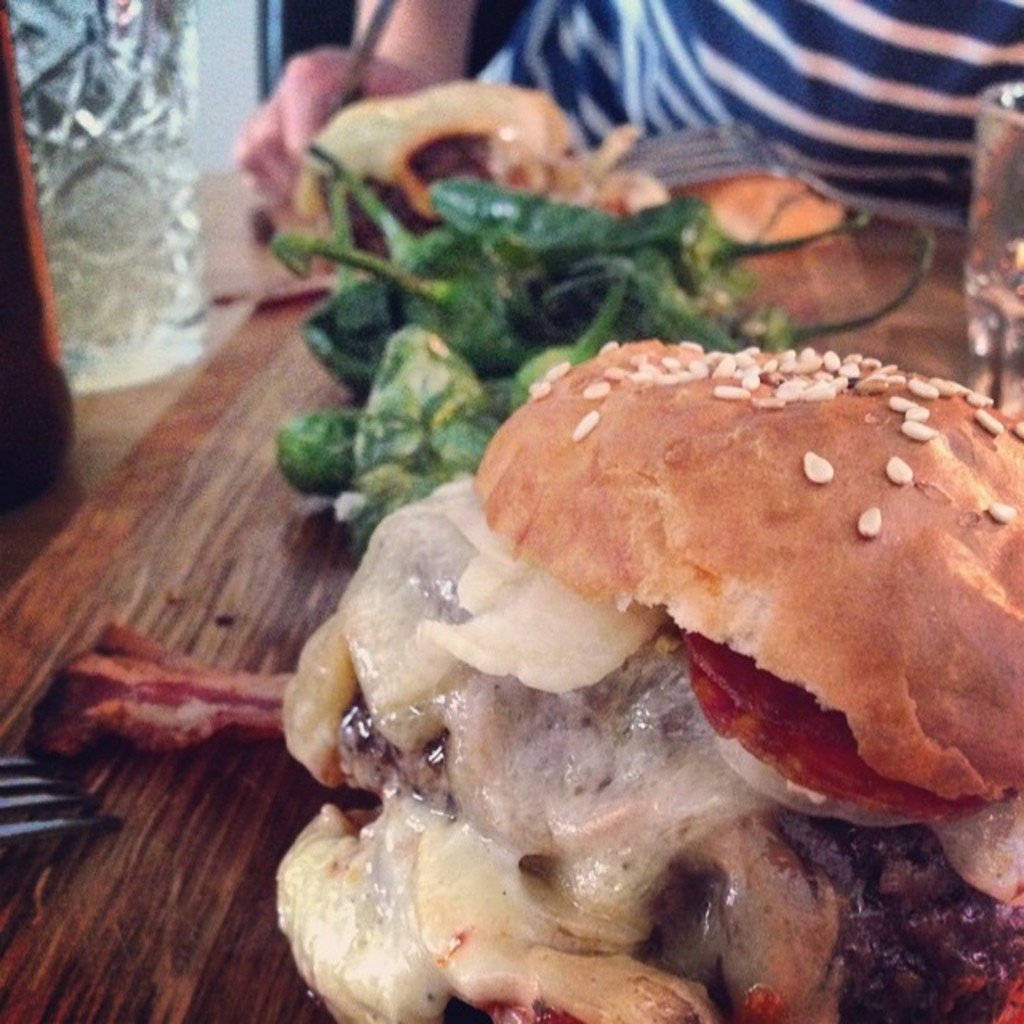Hamburger: (273, 342, 1022, 1022)
